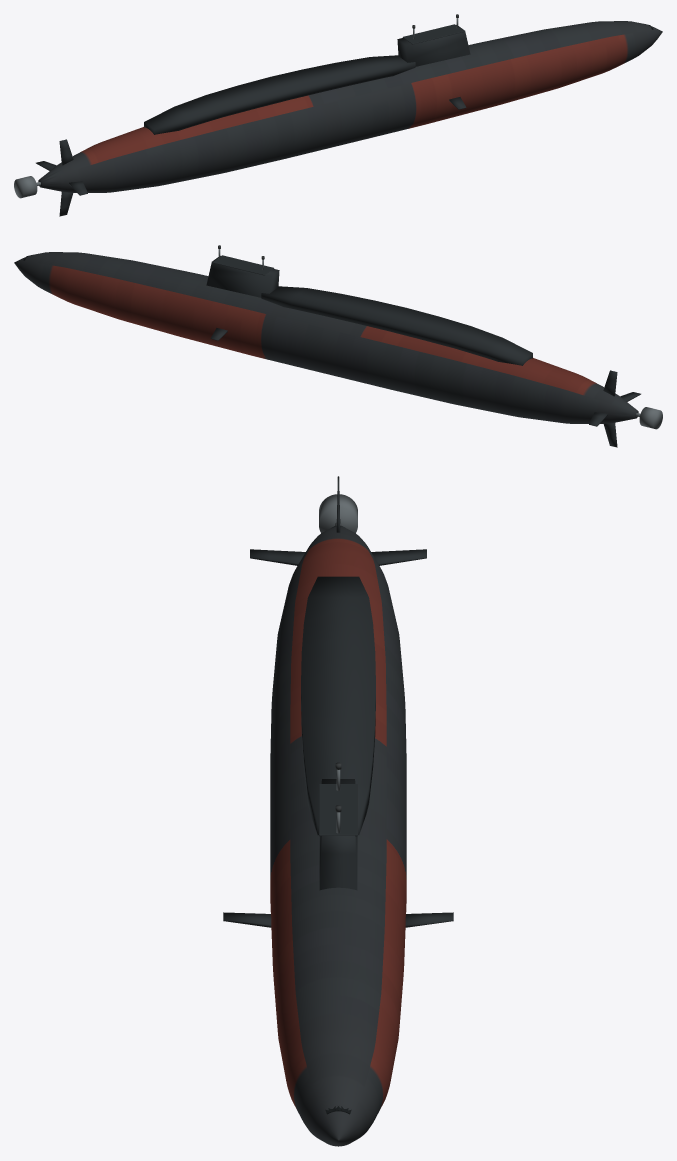
Rendered from CN_SSBN_Type094_LOD1.fbx.
3 renders of one model, top to bottom at view 1: azimuth 30°, elevation 25°; view 2: azimuth 150°, elevation 25°; view 3: azimuth 270°, elevation 25°, orthographic. The views are drawn at different scales.
Visible parts, largest first — view 1: CN_SSBN_Type094_LOD1; view 2: CN_SSBN_Type094_LOD1; view 3: CN_SSBN_Type094_LOD1.
Part boxes in pixels (left/top/right/bottom): CN_SSBN_Type094_LOD1: left=14, top=14, right=662, bottom=216; CN_SSBN_Type094_LOD1: left=14, top=245, right=662, bottom=447; CN_SSBN_Type094_LOD1: left=223, top=476, right=453, bottom=1146.
Bounding box in the file's own units: 142 × 21.95 × 21.93.
Materials: 6 (1 with a texture image).
